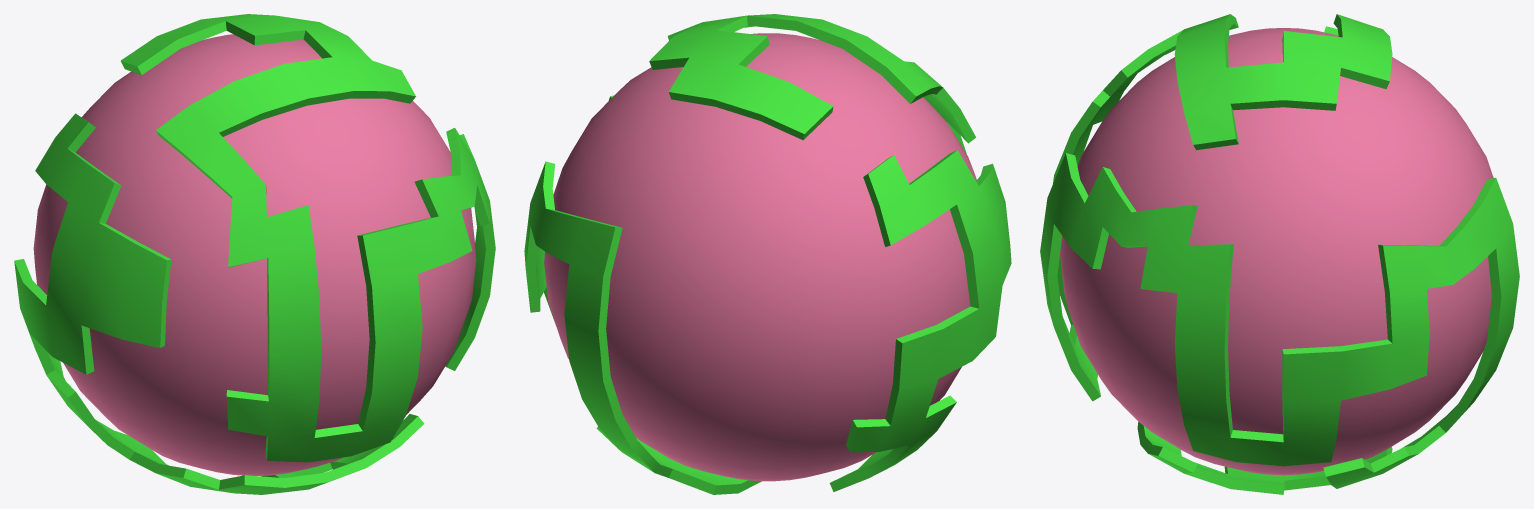
Rendered from WeirdCube.fbx.
The picture shows the model from 3 angles, left to right: view 1: azimuth 30°, elevation 25°; view 2: azimuth 150°, elevation 25°; view 3: azimuth 270°, elevation 25°; orthographic projection.
Visible parts, largest first — view 1: Sphere, Cube; view 2: Sphere, Cube; view 3: Sphere, Cube.
Part boxes in pixels (x1,y1,x2,y2): Sphere: [33, 34, 476, 475]; Cube: [14, 14, 495, 494]; Sphere: [544, 33, 976, 481]; Cube: [524, 14, 1011, 494]; Sphere: [1060, 28, 1493, 475]; Cube: [1040, 14, 1519, 494].
Size of the model in its own units: 242 by 242 by 238.
